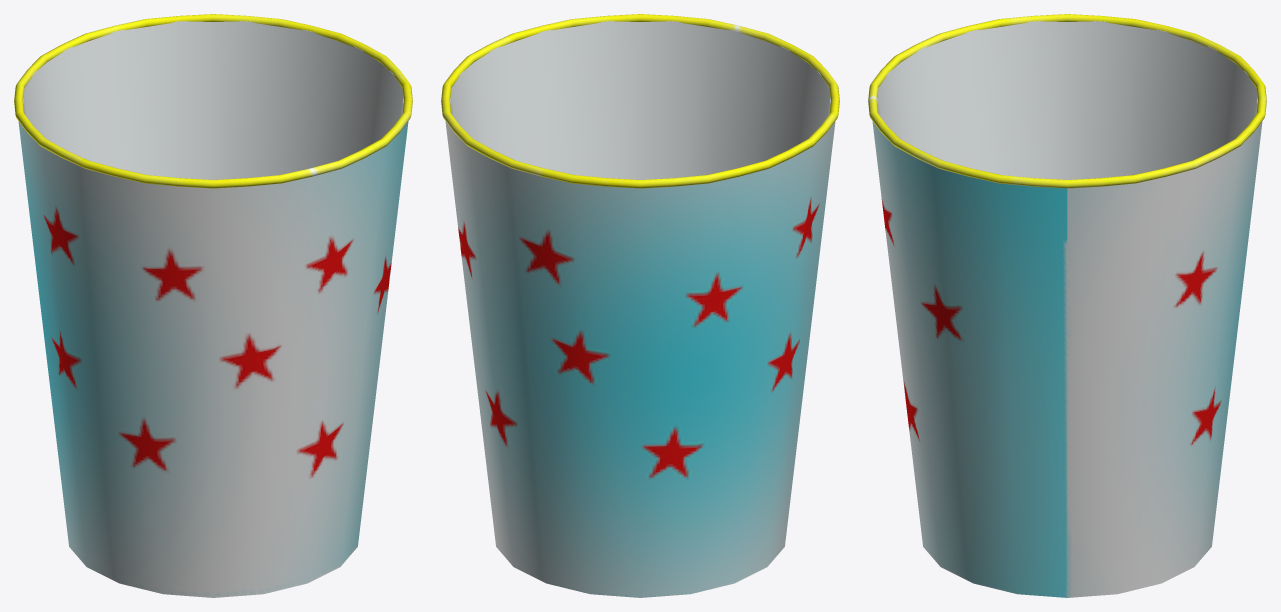
File: cylinder_train_wood_brick_c0.dae
3 renders of one model, left to right at view 1: azimuth 30°, elevation 25°; view 2: azimuth 150°, elevation 25°; view 3: azimuth 270°, elevation 25°, orthographic.
Visible parts, largest first — view 1: aws_Trash_01_visual; view 2: aws_Trash_01_visual; view 3: aws_Trash_01_visual.
Boxes of the visible parts, <box> form: aws_Trash_01_visual: <box>14,14,412,597</box>; aws_Trash_01_visual: <box>441,14,839,597</box>; aws_Trash_01_visual: <box>868,14,1266,597</box>.
Bounding box in the file's own units: 28.5 × 28.28 × 34.34.
Materials: 1 (1 with a texture image).
